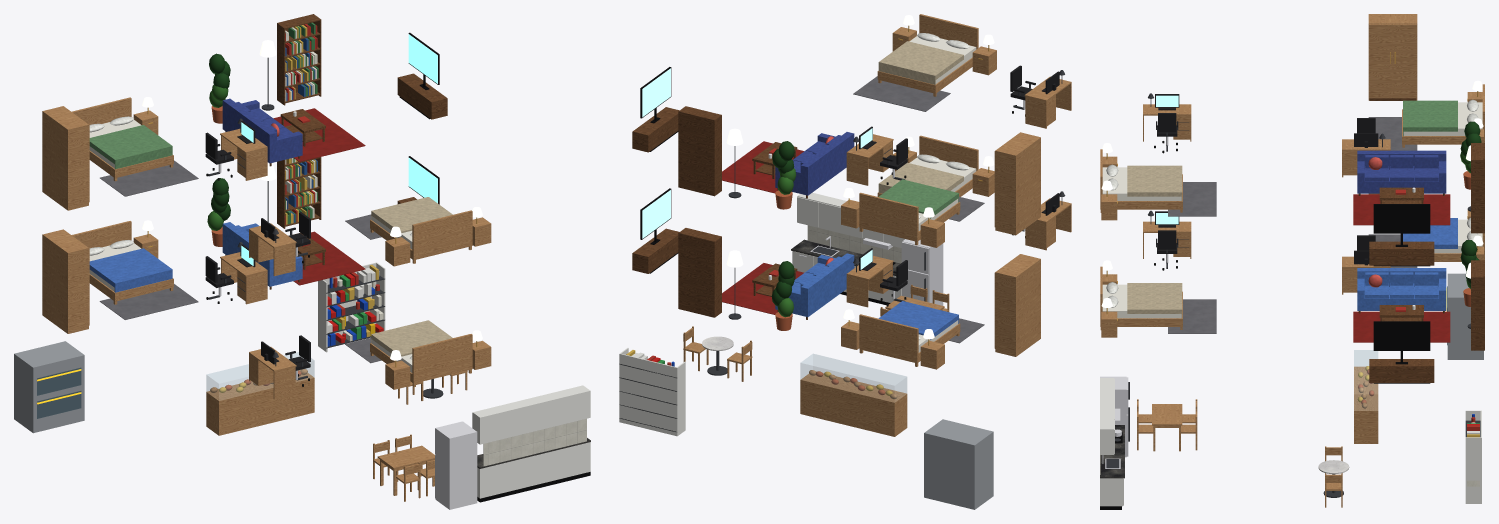
The model's file is i_german_fachwerk.gltf.
3 renders of one model, left to right at view 1: azimuth 30°, elevation 25°; view 2: azimuth 150°, elevation 25°; view 3: azimuth 270°, elevation 25°, orthographic. The views are drawn at different scales.
Parts seen in each view (by area): view 1: I_german_fachwerk; view 2: I_german_fachwerk; view 3: I_german_fachwerk.
Part boxes in pixels (x1,y1,x2,y2): I_german_fachwerk: [14, 14, 590, 509]; I_german_fachwerk: [619, 14, 1071, 509]; I_german_fachwerk: [1100, 14, 1484, 509].
Bounding box in the file's own units: 10.36 × 8.7 × 9.52.
Materials: 41 (14 with a texture image).
